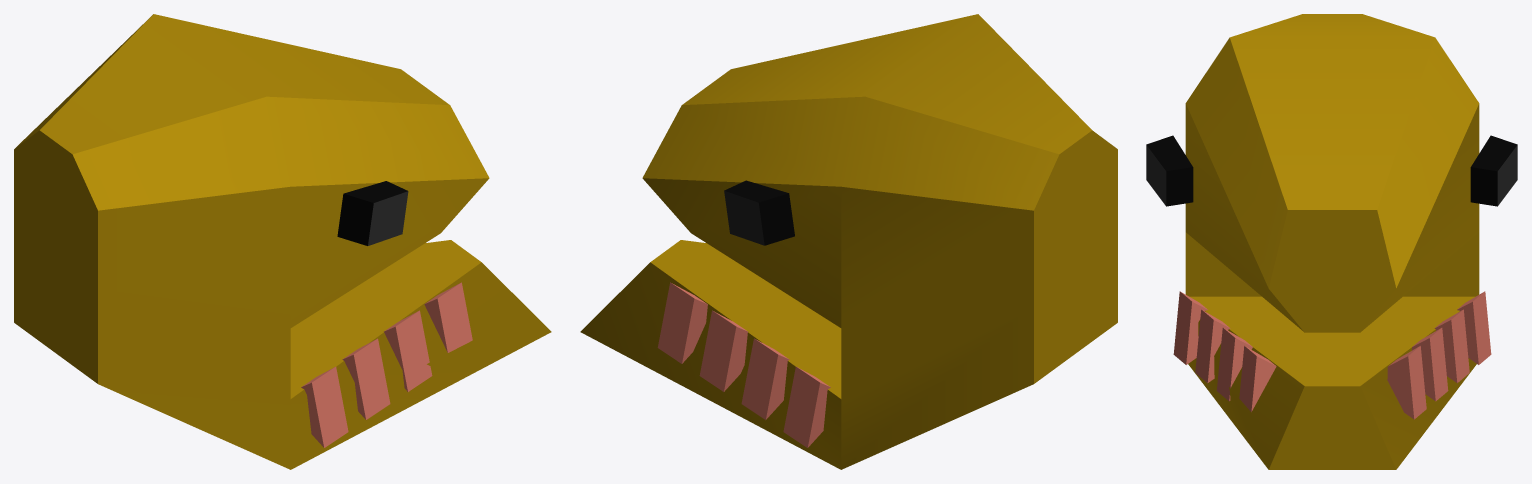
Rendered from snake_head_test_02.fbx.
The picture shows the model from 3 angles, left to right: view 1: azimuth 30°, elevation 25°; view 2: azimuth 150°, elevation 25°; view 3: azimuth 270°, elevation 25°; orthographic projection. The views are drawn at different scales.
Parts seen in each view (by area): view 1: snake_head_test_02; view 2: snake_head_test_02; view 3: snake_head_test_02.
Part boxes in pixels (box(x1,y1,x2,y2)): snake_head_test_02: box(14, 14, 551, 469); snake_head_test_02: box(580, 14, 1117, 469); snake_head_test_02: box(1146, 14, 1517, 469).
Bounding box in the file's own units: 0.8 × 0.59 × 0.614.
Materials: 1 (1 with a texture image).
